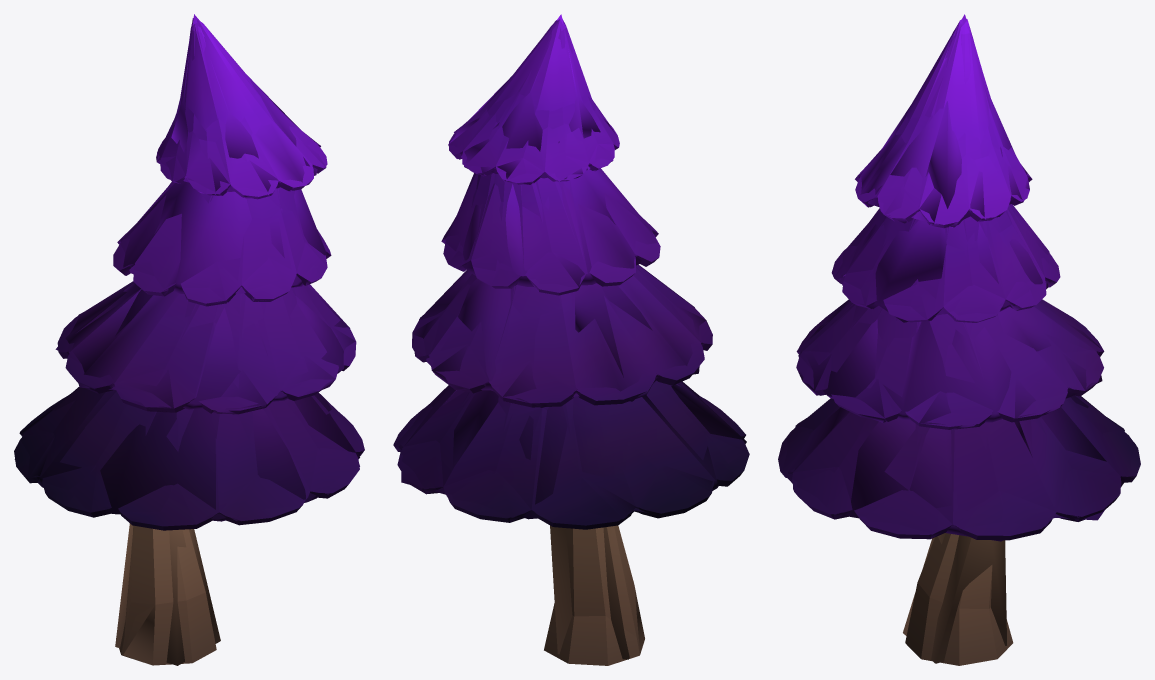
File: arbol morado.fbx
The picture shows the model from 3 angles, left to right: view 1: azimuth 30°, elevation 25°; view 2: azimuth 150°, elevation 25°; view 3: azimuth 270°, elevation 25°; orthographic projection. The views are drawn at different scales.
Visible parts, largest first — view 1: arbol.001, arbol.002, arbol.003; view 2: arbol.002, arbol.001, arbol.003; view 3: arbol.001, arbol.002, arbol.003.
Part boxes in pixels (x1,y1,x2,y2): arbol.001: (14,19,364,665); arbol.002: (19,18,363,665); arbol.003: (14,14,359,665); arbol.002: (394,19,748,665); arbol.001: (393,19,749,665); arbol.003: (401,14,746,659); arbol.001: (778,19,1140,665); arbol.002: (782,19,1135,608); arbol.003: (784,14,1128,663).
Size of the model in its own units: 901 by 1768 by 902.
3 materials, 3 textured.
